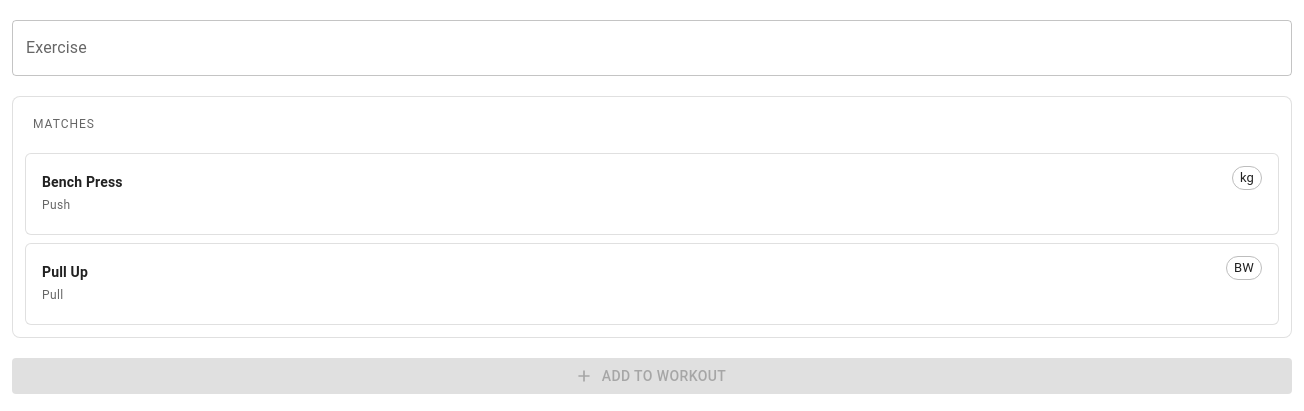
Scenario: ExercisePickerForm › shows an error when the search request fails
The image size is (1304, 411).
Type "row" into the search field labelled "Exercise". click: (652, 48)
box: [12,20,1292,76]
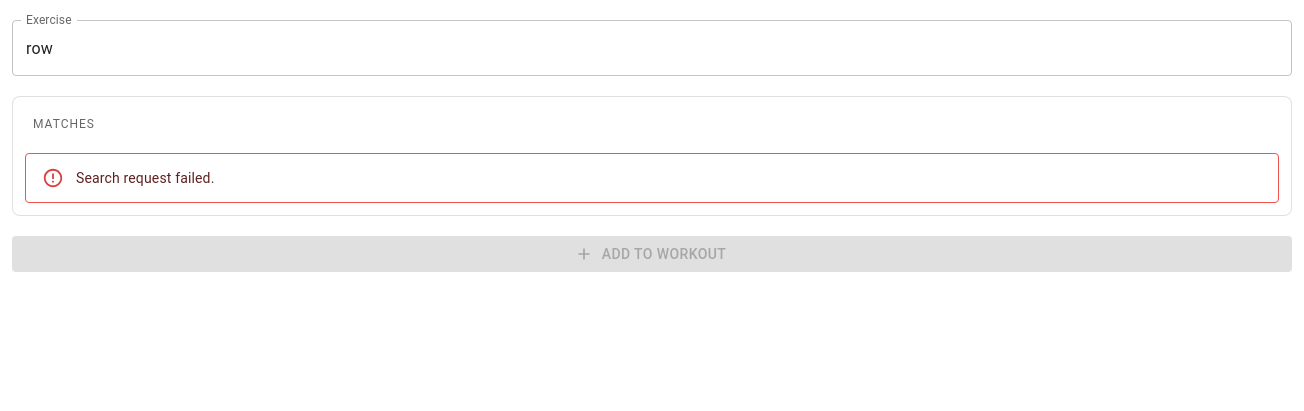
Result: the text "Search request failed." is shown at [76,170,214,186]
